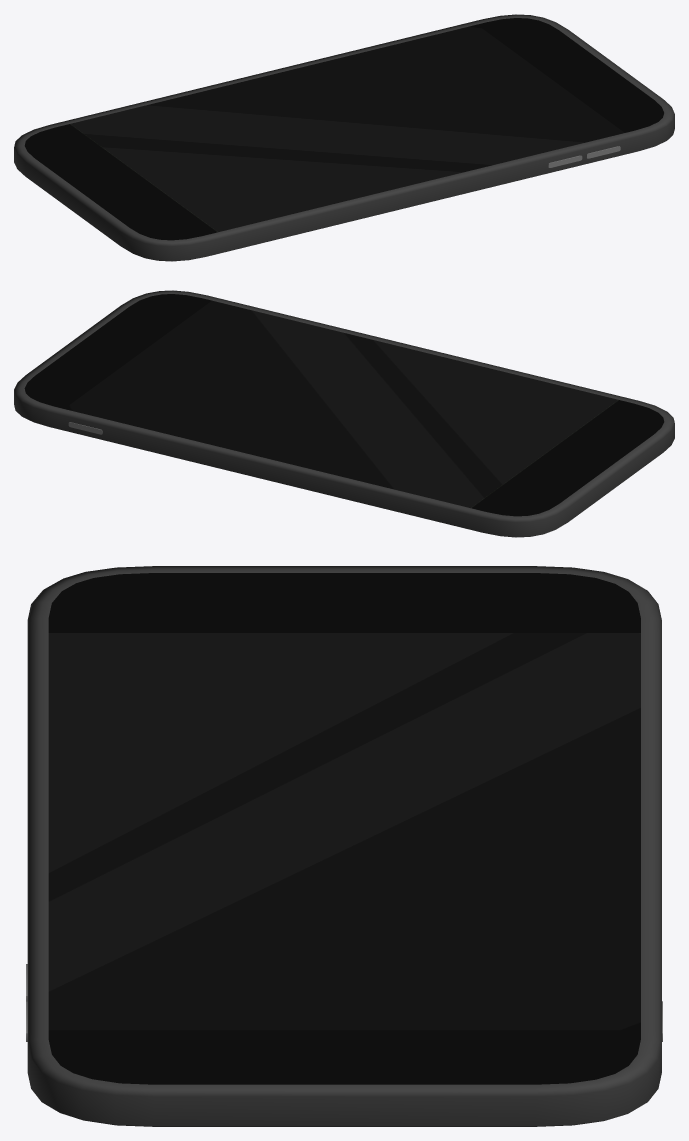
File: E_Phone_220908.fbx
The picture shows the model from 3 angles, top to bottom: view 1: azimuth 30°, elevation 25°; view 2: azimuth 150°, elevation 25°; view 3: azimuth 270°, elevation 25°; orthographic projection. The views are drawn at different scales.
Parts seen in each view (by area): view 1: E_phone; view 2: E_phone; view 3: E_phone.
Part boxes in pixels (bbox=[...]): E_phone: bbox=[14, 14, 674, 261]; E_phone: bbox=[14, 290, 674, 537]; E_phone: bbox=[26, 566, 662, 1126].
Bounding box in the file's own units: 364 × 11.31 × 185.
